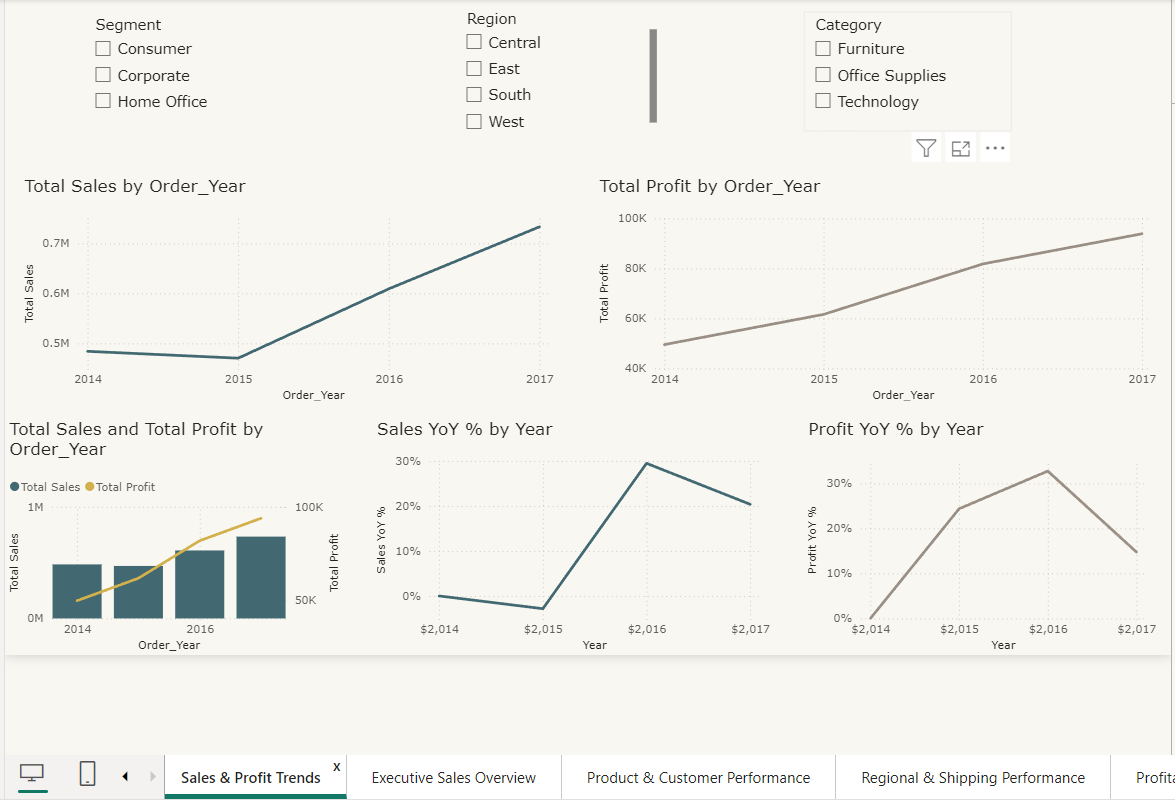

Layout of this report page (visuals, bound fields, positions):
{"tool":"powerbi","page":{"name":"Sales & Profit Trends","canvas":[1280,720],"ordinal":0},"visuals":[{"type":"lineChart","fields":{"Category":["vw_Sales_Clean.Order_Year"],"Y":["_Measures.Total Sales"]},"box":[16.5,193.5,591.4,252.5],"z":0},{"type":"lineChart","fields":{"Category":["vw_Sales_Clean.Order_Year"],"Y":["_Measures.Total Profit"]},"box":[647.7,193.5,621.6,252.5],"z":1000},{"type":"lineClusteredColumnComboChart","fields":{"Category":["vw_Sales_Clean.Order_Year"],"Y":["_Measures.Total Sales"],"Y2":["_Measures.Total Profit"]},"box":[0,459.7,374.6,260.7],"z":2000},{"type":"lineChart","fields":{"Y":["_Measures.Sales YoY %"],"Category":["DateTable.Year"]},"box":[403.4,459.7,441.9,260.7],"z":3000},{"type":"lineChart","fields":{"Category":["DateTable.Year"],"Y":["_Measures.Profit YoY %"]},"box":[876.8,459.7,392.5,260.7],"z":4000},{"type":"slicer","fields":{"Values":["vw_Sales_Clean.Segment"]},"box":[86.4,13.7,226.4,131.7],"z":5000},{"type":"slicer","fields":{"Values":["vw_Sales_Region.Region"]},"box":[494,6.9,226.4,145.5],"z":6000},{"type":"slicer","fields":{"Values":["vw_Sales_Clean.Category"]},"box":[876.8,13.7,227.8,131.7],"z":7000}]}

Visuals, with their boxes on the page's 1280x720 design canvas (x1, y1, x2, y2). These are canvas units, not pixel positions in the 1175x800 screenshot, which may show the page scaled, cropped or inside an application window:
lineChart - vw_Sales_Clean.Order_Year x _Measures.Total Sales: 16, 194, 608, 446
lineChart - vw_Sales_Clean.Order_Year x _Measures.Total Profit: 648, 194, 1269, 446
lineClusteredColumnComboChart - vw_Sales_Clean.Order_Year x _Measures.Total Sales: 0, 460, 375, 720
lineChart - _Measures.Sales YoY % x DateTable.Year: 403, 460, 845, 720
lineChart - DateTable.Year x _Measures.Profit YoY %: 877, 460, 1269, 720
slicer - vw_Sales_Clean.Segment: 86, 14, 313, 145
slicer - vw_Sales_Region.Region: 494, 7, 720, 152
slicer - vw_Sales_Clean.Category: 877, 14, 1105, 145
